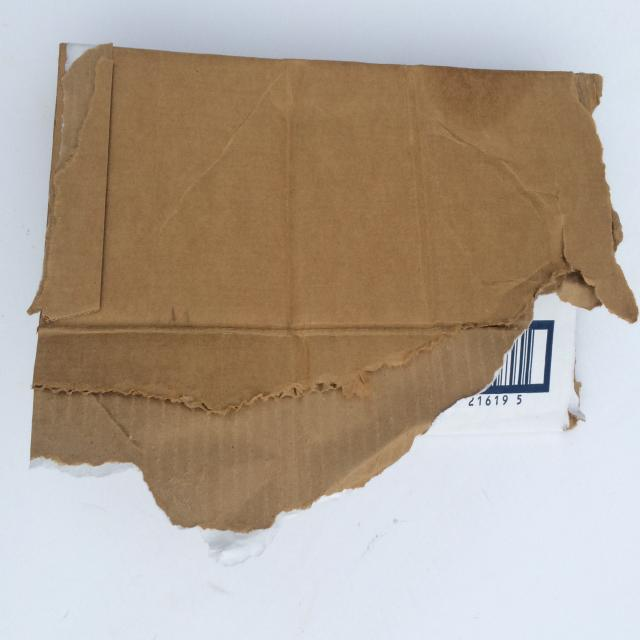cardboard: (28, 40, 638, 532)
